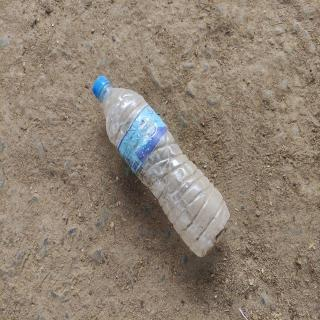Plastic-bottle: (91, 72, 232, 262)
